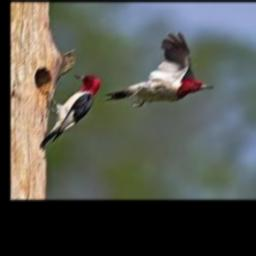Woodpecker: (104, 32, 214, 107), (40, 74, 102, 150)
